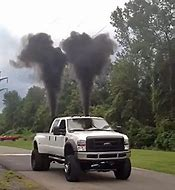smoke: (61, 29, 117, 113), (12, 29, 64, 113)
